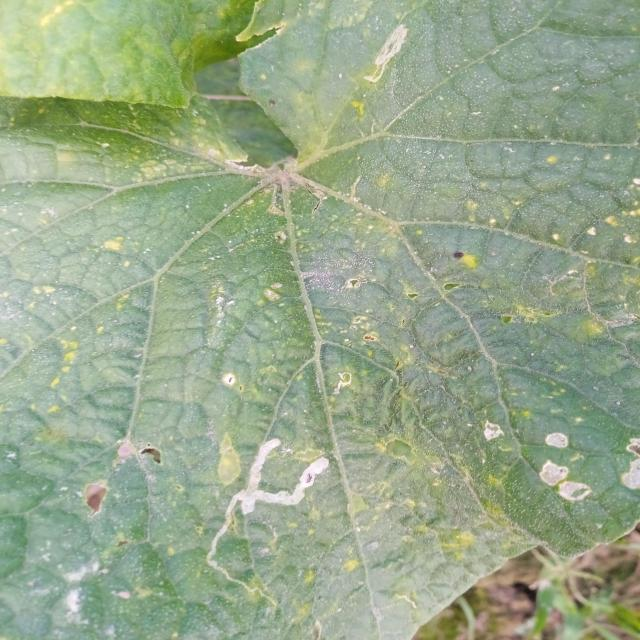cucumber_downy: (12, 106, 640, 616)
